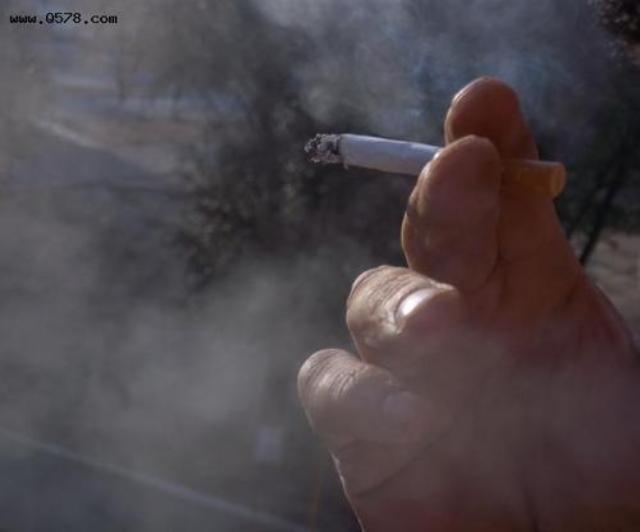Smoking: (304, 131, 568, 199)
